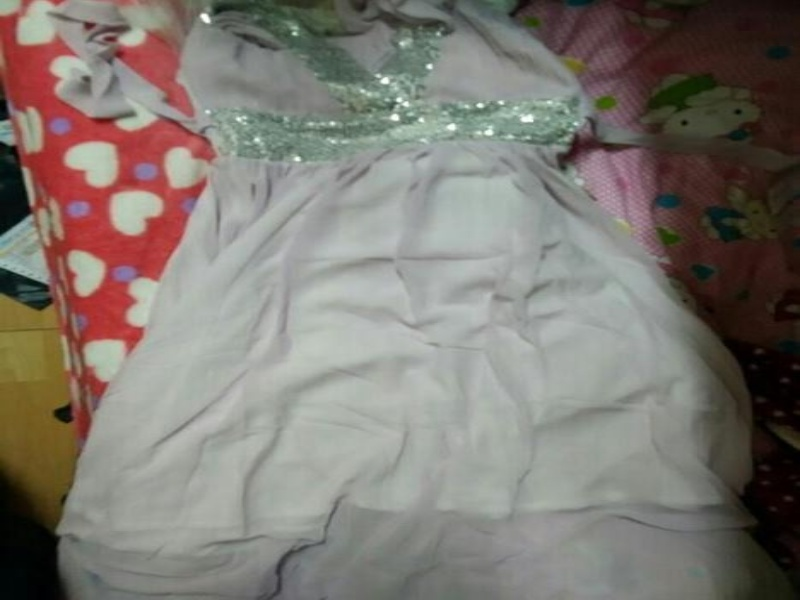short_sleeved_dress: (39, 1, 798, 599)
